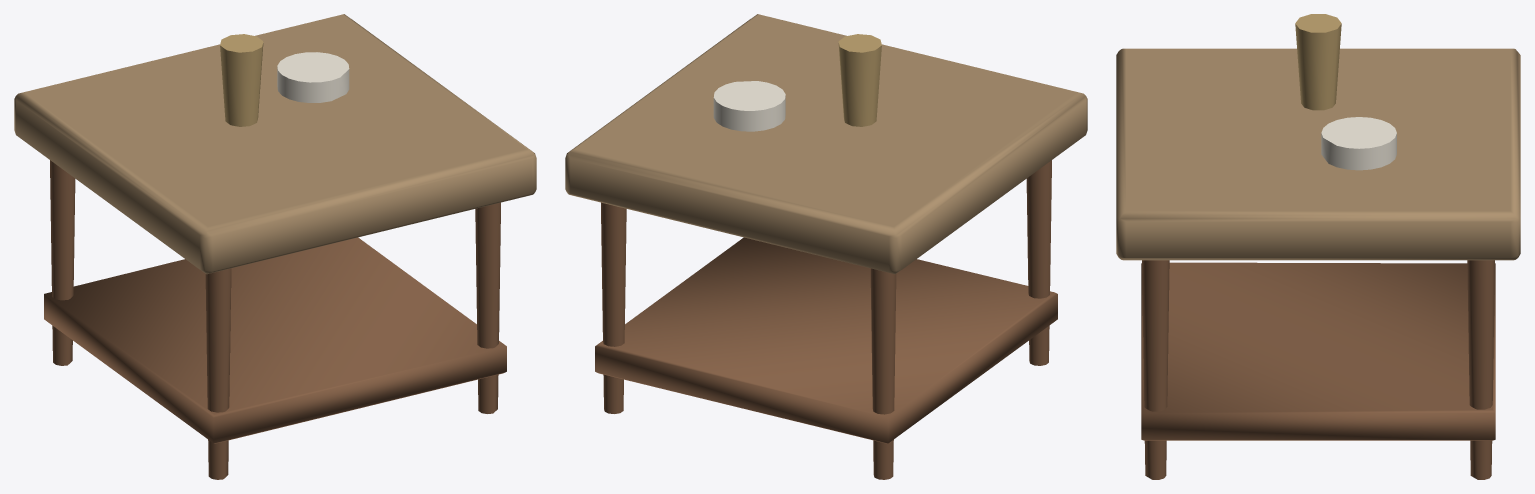
File: table-21-0.lod.glb
The picture shows the model from 3 angles, left to right: view 1: azimuth 30°, elevation 25°; view 2: azimuth 150°, elevation 25°; view 3: azimuth 270°, elevation 25°; orthographic projection. The views are drawn at different scales.
Parts seen in each view (by area): view 1: upholstery, part (×3); view 2: upholstery, part (×3); view 3: upholstery, part (×3).
Part boxes in pixels (bbox=[...]): upholstery: bbox=[14, 14, 536, 274]; part (×3): bbox=[44, 34, 506, 479]; upholstery: bbox=[565, 14, 1087, 274]; part (×3): bbox=[595, 34, 1057, 479]; upholstery: bbox=[1116, 48, 1520, 260]; part (×3): bbox=[1141, 14, 1495, 479].
Bounding box in the file's own units: 1 × 1 × 1.
